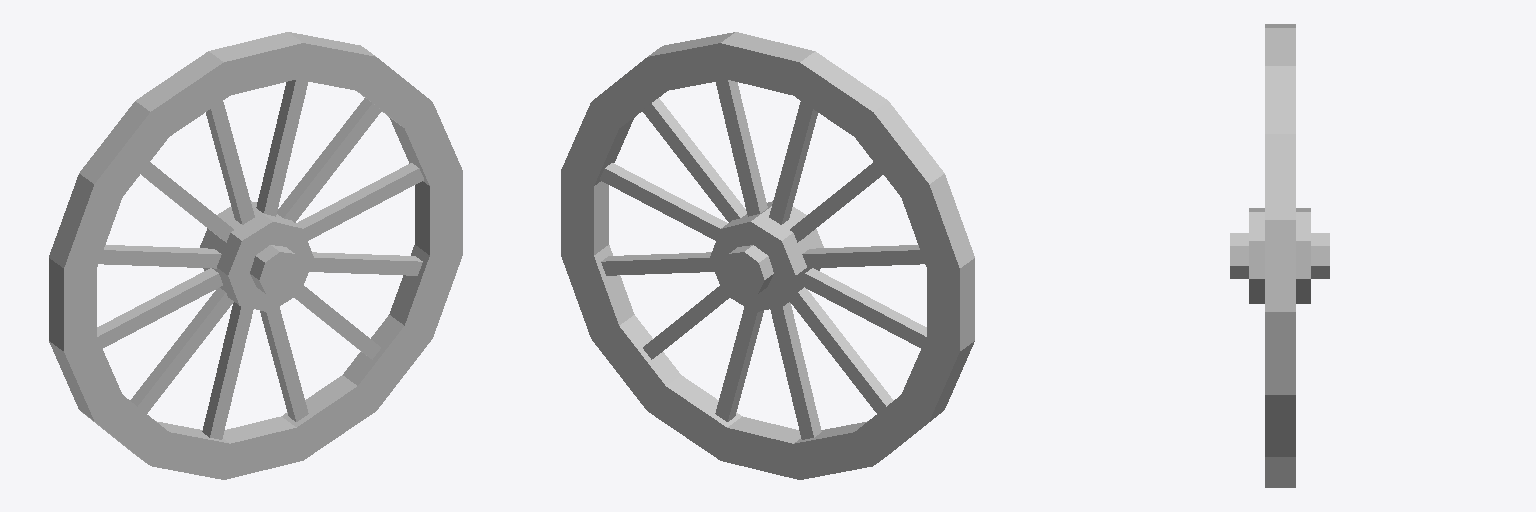
The model's file is mt_wheel_l.obj.
The picture shows the model from 3 angles: view 1: azimuth 30°, elevation 25°; view 2: azimuth 150°, elevation 25°; view 3: azimuth 270°, elevation 25°; orthographic projection.
Parts seen in each view (by area): view 1: cube.003, cube.000, cube.004, cube.001, hexadecagon.003, cube, hexadecagon.011, hexadecagon.005, hexadecagon.004, hexadecagon.001, hexadecagon.002, hexadecagon.013 (+15 smaller); view 2: cube.003, cube.000, cube.004, cube.001, cube, hexadecagon.004, hexadecagon.002, hexadecagon.003, hexadecagon.012, hexadecagon.010, hexadecagon.011, hexadecagon.005 (+15 smaller); view 3: hexadecagon.014, hexadecagon.007, hexadecagon.013, hexadecagon.008, hexadecagon.012, hexadecagon.001, octagon.006, hexadecagon.011, octagon.005, octagon.003, octagon.001.
Part boxes in pixels (x1,y1,x2,y2): cube.003: (130, 98, 381, 413); cube.000: (202, 79, 307, 439); cube.004: (97, 163, 423, 348); cube.001: (206, 101, 308, 421); hexadecagon.003: (79, 101, 173, 202); cube: (99, 245, 422, 275); hexadecagon.011: (343, 315, 432, 410); hexadecagon.005: (49, 258, 96, 351); hexadecagon.004: (49, 174, 122, 268); hexadecagon.001: (209, 32, 302, 96); hexadecagon.002: (136, 51, 228, 135); hexadecagon.013: (415, 171, 462, 261); cube.003: (642, 98, 893, 413); cube.000: (716, 80, 821, 439); cube.004: (600, 163, 926, 347); cube.001: (715, 101, 817, 421); cube: (601, 245, 924, 275); hexadecagon.004: (899, 174, 974, 274); hexadecagon.002: (787, 51, 887, 140); hexadecagon.003: (856, 101, 944, 196); hexadecagon.012: (561, 245, 634, 338); hexadecagon.010: (647, 375, 741, 460); hexadecagon.011: (592, 315, 680, 409); hexadecagon.005: (927, 258, 974, 351); hexadecagon.014: (1265, 220, 1295, 311); hexadecagon.007: (1265, 134, 1295, 219); hexadecagon.013: (1265, 312, 1295, 394); hexadecagon.008: (1265, 66, 1295, 133); hexadecagon.012: (1265, 395, 1295, 456); hexadecagon.001: (1265, 28, 1295, 65); octagon.006: (1249, 241, 1310, 278); hexadecagon.011: (1265, 457, 1295, 487); octagon.005: (1249, 212, 1310, 240); octagon.003: (1249, 279, 1310, 303); octagon.001: (1230, 246, 1329, 265).
Size of the model in its own units: 1.88 by 1.88 by 0.4065.